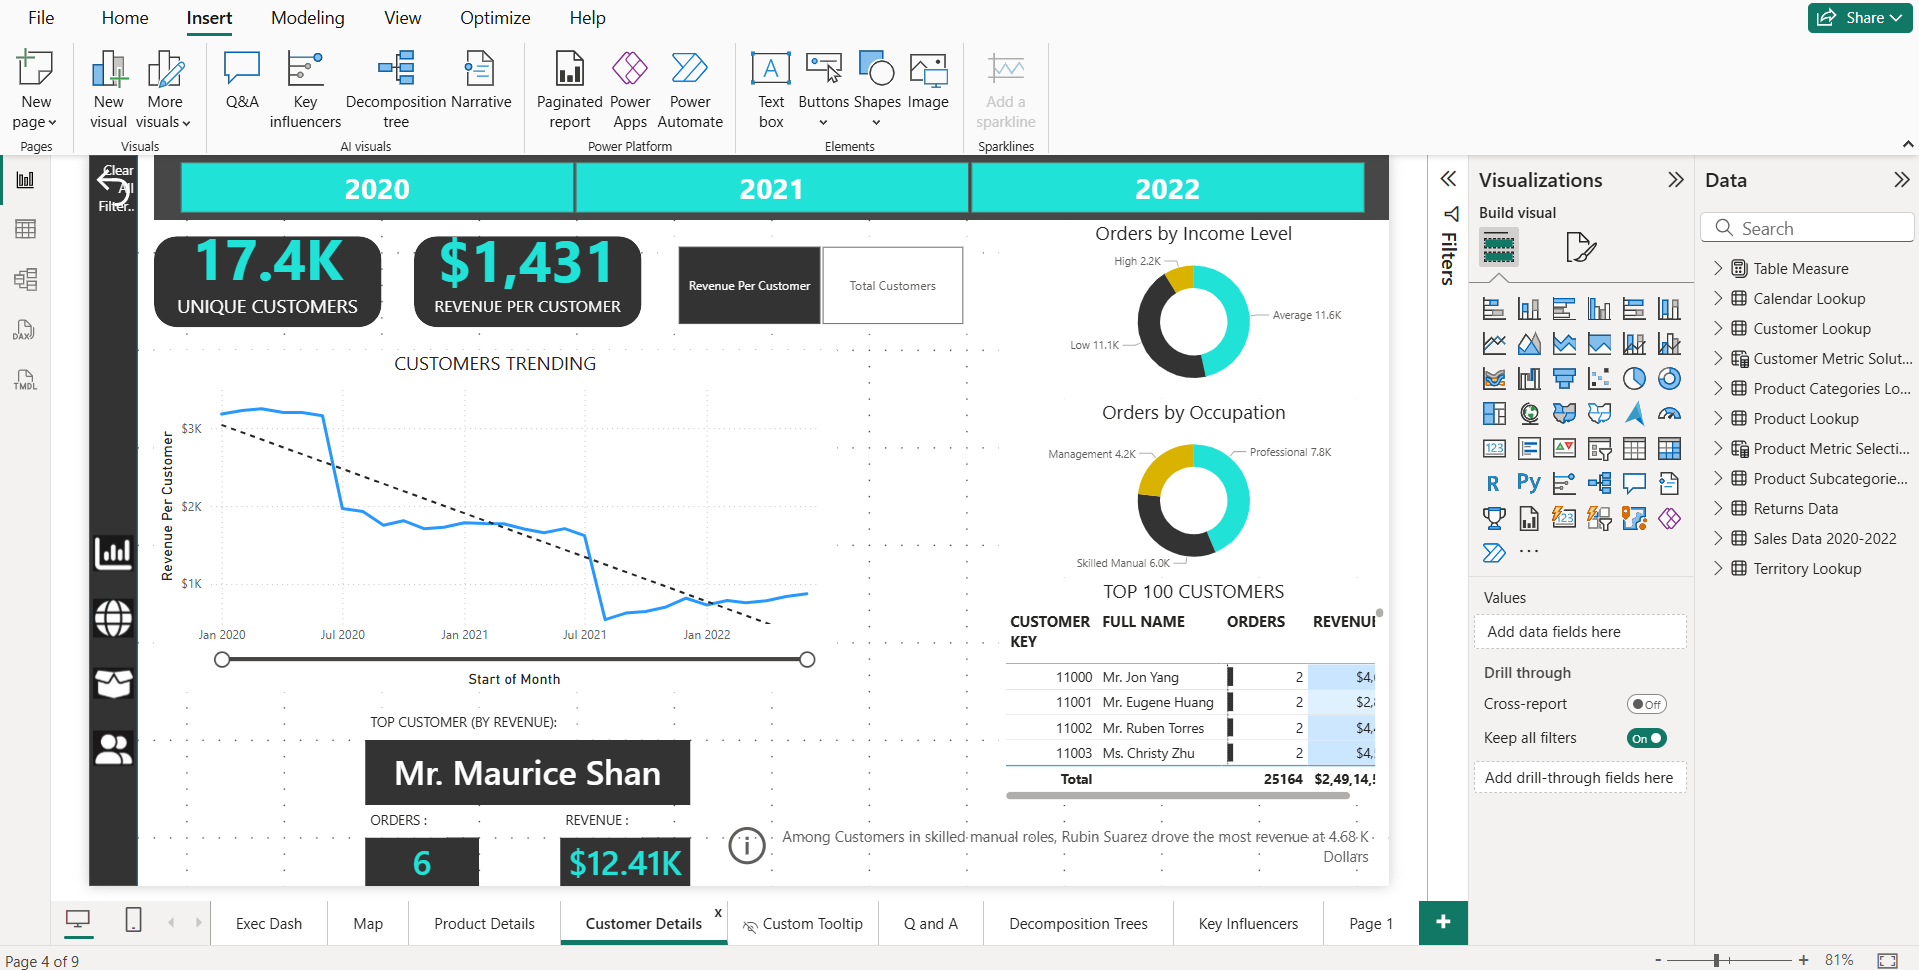

The dashboard page shown, as its layout file describes it:
{"tool":"powerbi","page":{"name":"Customer Details","canvas":[1280,720],"ordinal":3},"visuals":[{"type":"card","fields":{"Values":["Table Measure.Total Customers"]},"box":[48,64,231.5,115.6],"z":0,"group":"g2"},{"type":"group","id":"g1","title":"KPI Cards","box":[64.5,76.4,479.5,115.6],"z":0,"group":"g5"},{"type":"shape","box":[64.5,76.4,214.9,115.6],"z":0,"group":"g1"},{"type":"donutChart","title":"Orders by Income Level","fields":{"Category":["Customer Lookup.Income Level"],"Y":["Table Measure.Total Orders"]},"box":[880,80,384,192],"z":0},{"type":"actionButton","box":[0,368,48,48],"z":0,"group":"g3"},{"type":"shape","box":[416,560,448,128],"z":0,"group":"g4"},{"type":"card","fields":{"Values":["Table Measure.Full Name (Customer Detail)"]},"box":[64,576,320,64],"z":0,"group":"g6"},{"type":"group","id":"g2","title":"KPI Values","box":[48,64,496,115.6],"z":1000,"group":"g5"},{"type":"shape","box":[312.5,76.4,231.5,115.6],"z":1000,"group":"g1"},{"type":"card","fields":{"Values":["Table Measure.Average Revenue Per Customer"]},"box":[312.5,80.5,231.5,99.1],"z":1000,"group":"g2"},{"type":"donutChart","title":"Orders by Occupation","fields":{"Category":["Customer Lookup.Occupation"],"Y":["Table Measure.Total Orders"]},"box":[880,288,384,192],"z":1000},{"type":"actionButton","box":[0,432,48,48],"z":1000,"group":"g3"},{"type":"actionButton","box":[416,560,448,128],"z":1000,"group":"g4"},{"type":"card","fields":{"Values":["Table Measure.Total Orders (Customer Detail)"]},"box":[64,672,112,48],"z":1000,"group":"g6"},{"type":"actionButton","box":[0,496,48,48],"z":2000,"group":"g3"},{"type":"tableEx","title":"TOP 100 CUSTOMERS","fields":{"Values":["Customer Lookup.CustomerKey","Customer Lookup.Full Name","Table Measure.Total Orders","Table Measure.Total Revenue"]},"box":[880,496,384,208],"z":2000},{"type":"card","fields":{"Values":["Table Measure.Total Revenue (Customer Detail)"]},"box":[256,672,128,48],"z":2000,"group":"g6"},{"type":"actionButton","box":[0,0,96,32],"z":3000},{"type":"textbox","box":[64,544,320,32],"z":3000,"group":"g6"},{"type":"actionButton","box":[0,560,48,48],"z":3000,"group":"g3"},{"type":"slicer","fields":{"Values":["Calendar Lookup.Year"]},"box":[48,0,1232,64],"z":4000},{"type":"textbox","box":[64,640,112,32],"z":4000,"group":"g6"},{"type":"shape","title":"Left Nav Bar","box":[0,0,48,720],"z":5000},{"type":"textbox","box":[256,640,128,32],"z":5000,"group":"g6"},{"type":"actionButton","box":[0,0,48,64],"z":6000},{"type":"group","id":"g3","title":"Custom Navigation Buttons","box":[0,368,48,240],"z":7000},{"type":"lineChart","title":"CUSTOMERS TRENDING","fields":{"Y":["Table Measure.Average Revenue Per Customer","Table Measure.Total Customers"],"Category":["Calendar Lookup.Start of Year","Calendar Lookup.Start of Quarter","Calendar Lookup.Start of Month","Calendar Lookup.Start of Week"]},"box":[64,208,784,320],"z":8000},{"type":"slicer","fields":{"Values":["Customer Metric Solution.Customer Metric Solution"]},"box":[560,80,304,112],"z":9000},{"type":"group","id":"g4","title":"Group 1","box":[416,560,448,128],"z":10000},{"type":"group","id":"g5","title":"KPIs","box":[48,64,496,128],"z":11000},{"type":"group","id":"g6","title":"Bottom_Group","box":[64,544,320,176],"z":12000}]}

Visuals, with their boxes on the page's 1280x720 design canvas (x1, y1, x2, y2). These are canvas units, not pixel positions in the 1919x970 screenshot, which may show the page scaled, cropped or inside an application window:
card - Table Measure.Total Customers: (48, 64, 280, 180)
"KPI Cards" group: (64, 76, 544, 192)
shape: (64, 76, 279, 192)
"Orders by Income Level" donutChart: (880, 80, 1264, 272)
actionButton: (0, 368, 48, 416)
shape: (416, 560, 864, 688)
card - Table Measure.Full Name (Customer Detail): (64, 576, 384, 640)
"KPI Values" group: (48, 64, 544, 180)
shape: (312, 76, 544, 192)
card - Table Measure.Average Revenue Per Customer: (312, 80, 544, 180)
"Orders by Occupation" donutChart: (880, 288, 1264, 480)
actionButton: (0, 432, 48, 480)
actionButton: (416, 560, 864, 688)
card - Table Measure.Total Orders (Customer Detail): (64, 672, 176, 720)
actionButton: (0, 496, 48, 544)
"TOP 100 CUSTOMERS" tableEx: (880, 496, 1264, 704)
card - Table Measure.Total Revenue (Customer Detail): (256, 672, 384, 720)
actionButton: (0, 0, 96, 32)
textbox: (64, 544, 384, 576)
actionButton: (0, 560, 48, 608)
slicer - Calendar Lookup.Year: (48, 0, 1280, 64)
textbox: (64, 640, 176, 672)
"Left Nav Bar" shape: (0, 0, 48, 720)
textbox: (256, 640, 384, 672)
actionButton: (0, 0, 48, 64)
"Custom Navigation Buttons" group: (0, 368, 48, 608)
"CUSTOMERS TRENDING" lineChart: (64, 208, 848, 528)
slicer - Customer Metric Solution.Customer Metric Solution: (560, 80, 864, 192)
"Group 1" group: (416, 560, 864, 688)
"KPIs" group: (48, 64, 544, 192)
"Bottom_Group" group: (64, 544, 384, 720)
